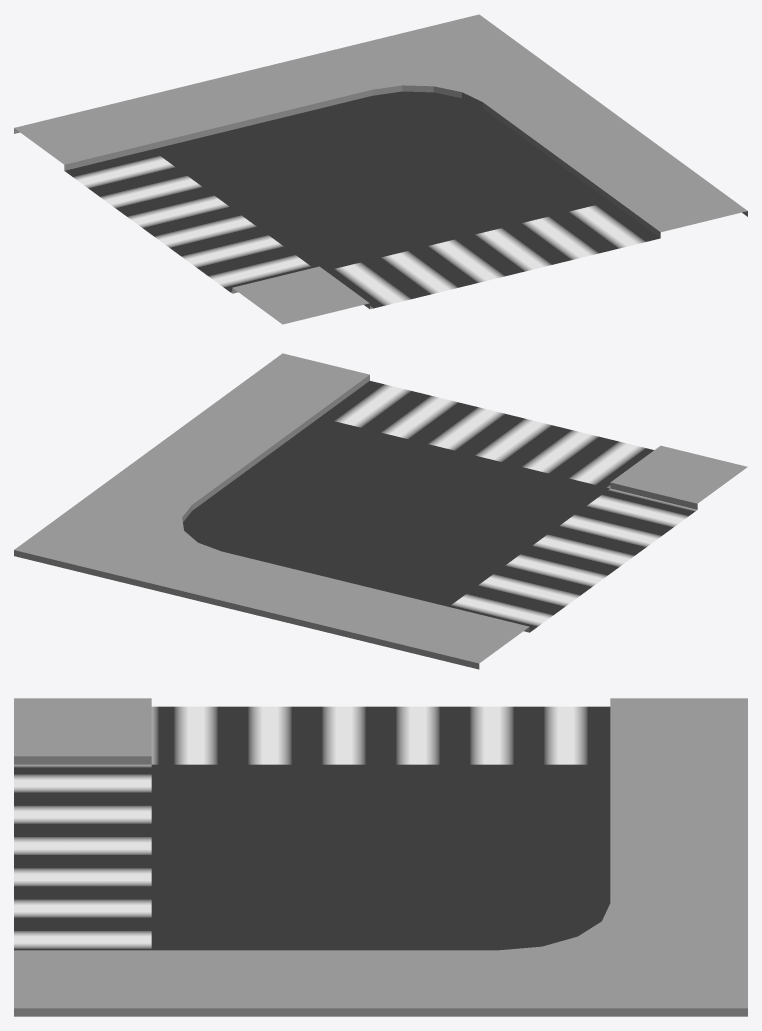
Rendered from Road_Turn_Cross.obj.
3 renders of one model, top to bottom at view 1: azimuth 30°, elevation 25°; view 2: azimuth 150°, elevation 25°; view 3: azimuth 270°, elevation 25°, orthographic. The views are drawn at different scales.
Visible parts, largest first — view 1: Road_Turn_Cross_Plane.009; view 2: Road_Turn_Cross_Plane.009; view 3: Road_Turn_Cross_Plane.009.
Part boxes in pixels (x1,y1,x2,y2): Road_Turn_Cross_Plane.009: (14, 14, 747, 324); Road_Turn_Cross_Plane.009: (14, 353, 747, 669); Road_Turn_Cross_Plane.009: (14, 698, 747, 1016).
Size of the model in its own units: 16 by 0.2 by 16.
1 material, 1 textured.
